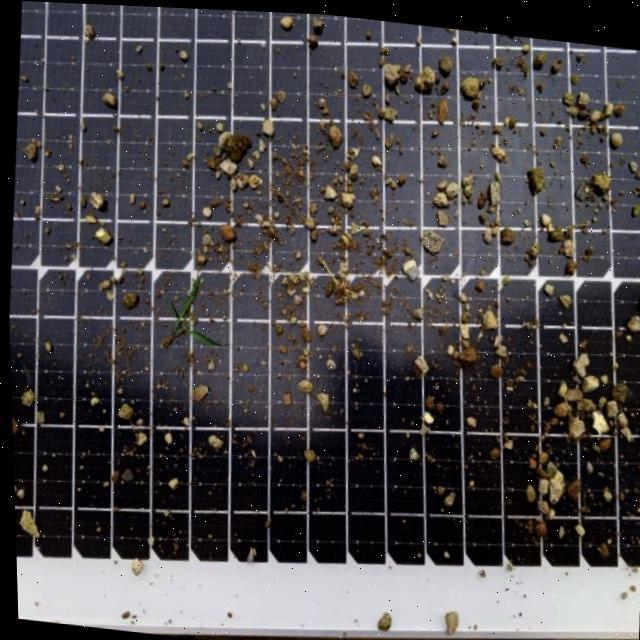Surface Contaminant: (7, 1, 640, 622)
